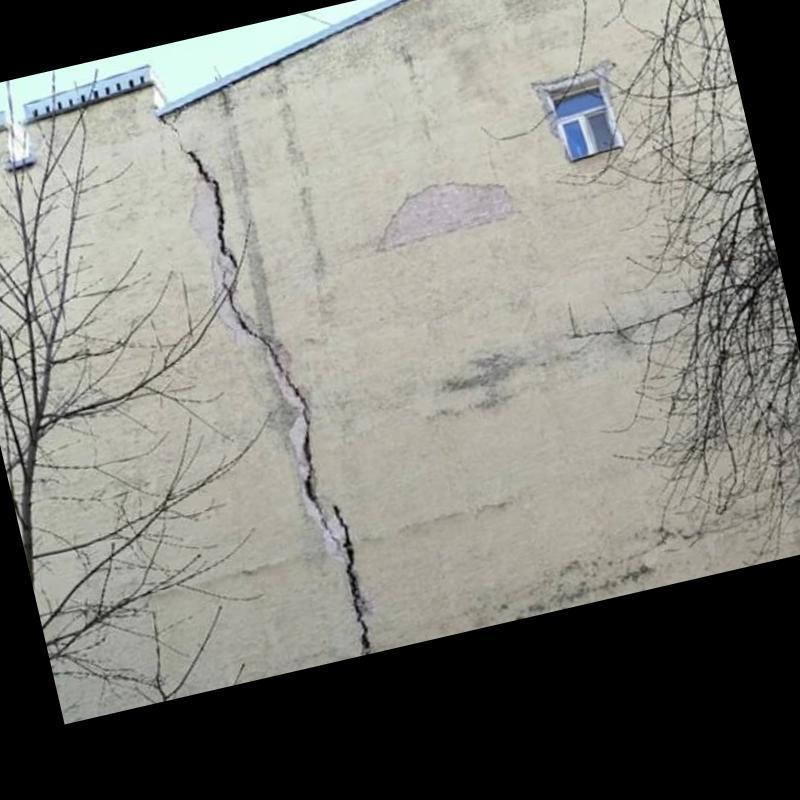pothole: (221, 270, 283, 372), (285, 370, 322, 515), (333, 504, 370, 648), (212, 179, 238, 267), (178, 142, 210, 181), (159, 110, 180, 138), (319, 517, 333, 534)
